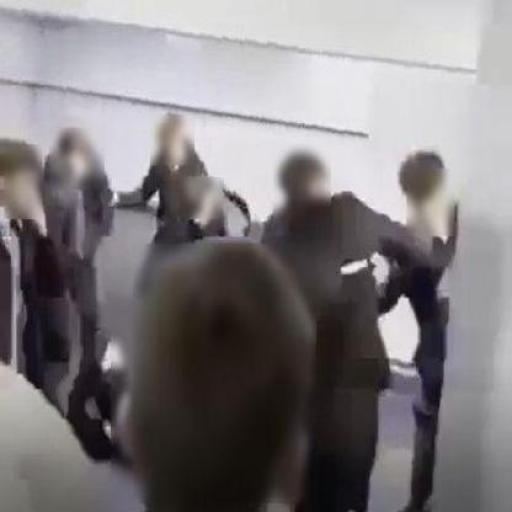Fighting: (0, 112, 458, 512)
